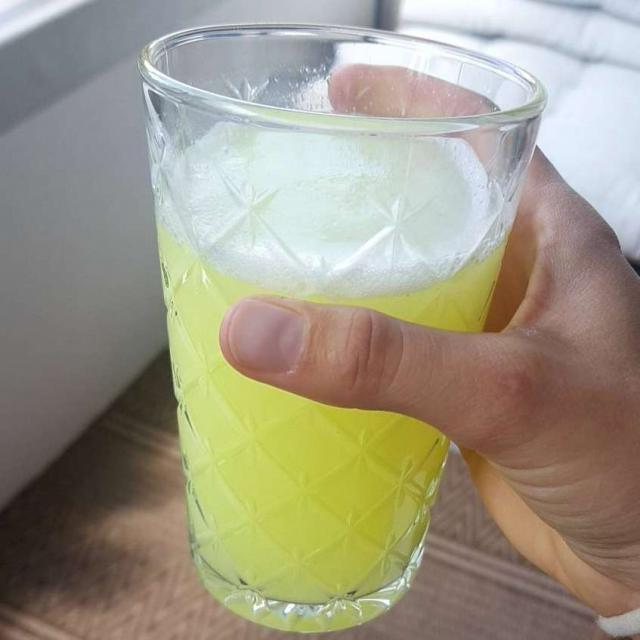water: (166, 161, 478, 596)
